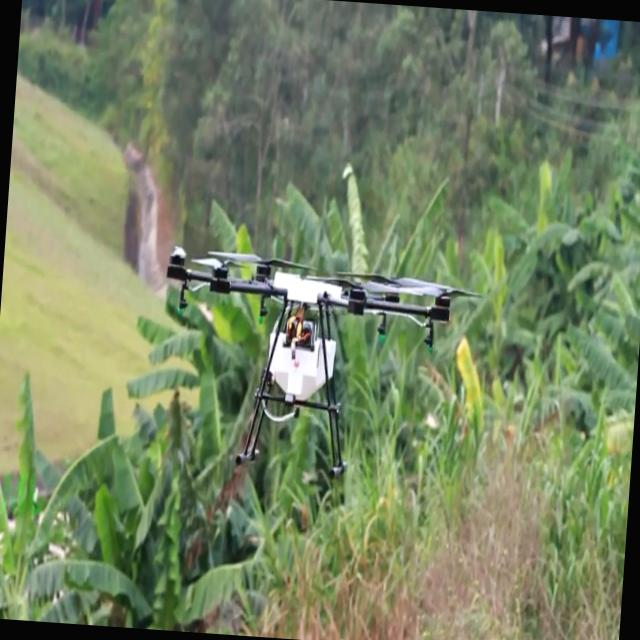drone: (151, 240, 455, 487)
